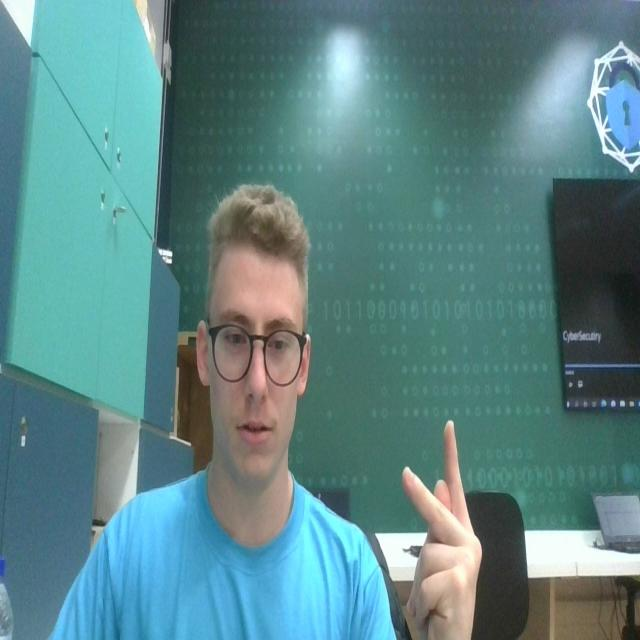K: (395, 411, 493, 640)
